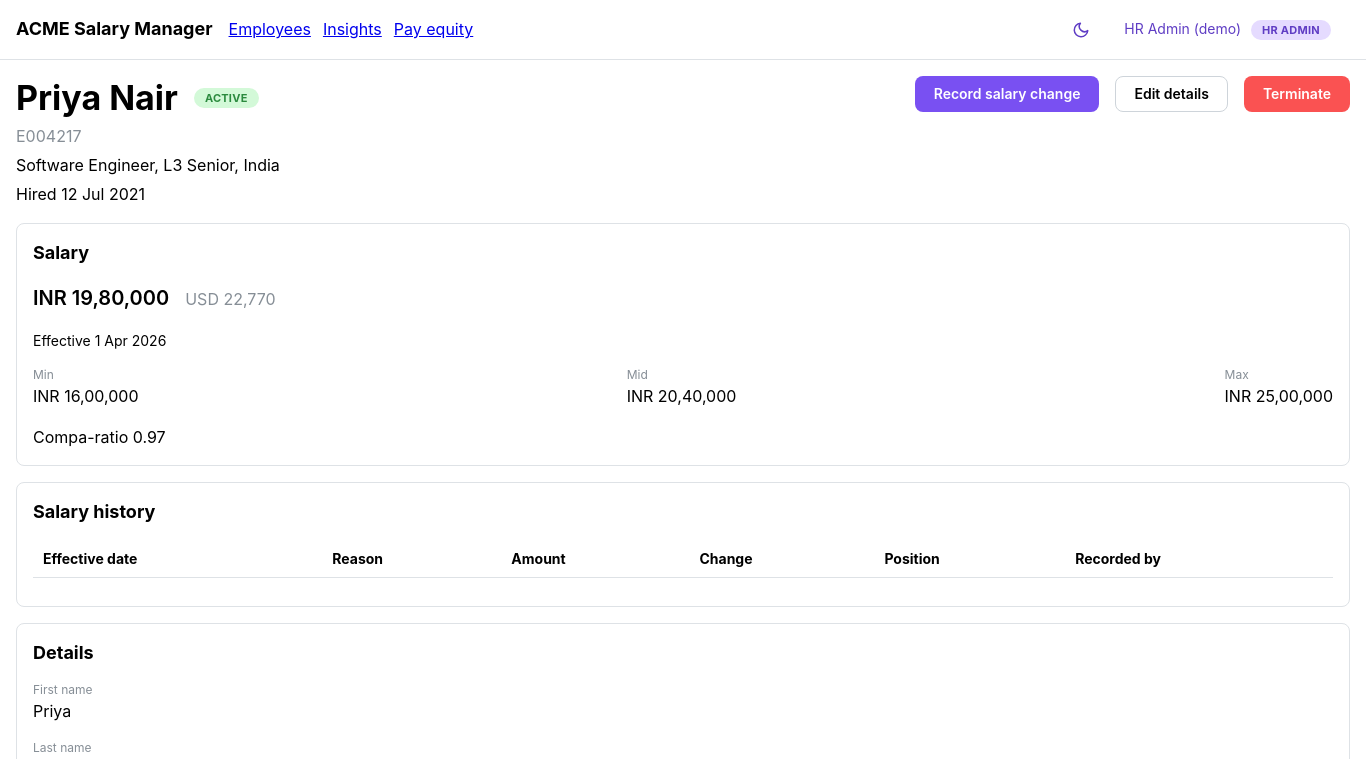
record salary change modal (04 section 8.5 S-6) › locks title and level for merit and offers only higher levels for promotion
Click the button "Record salary change": point(1007, 94) [915,76,1100,112]
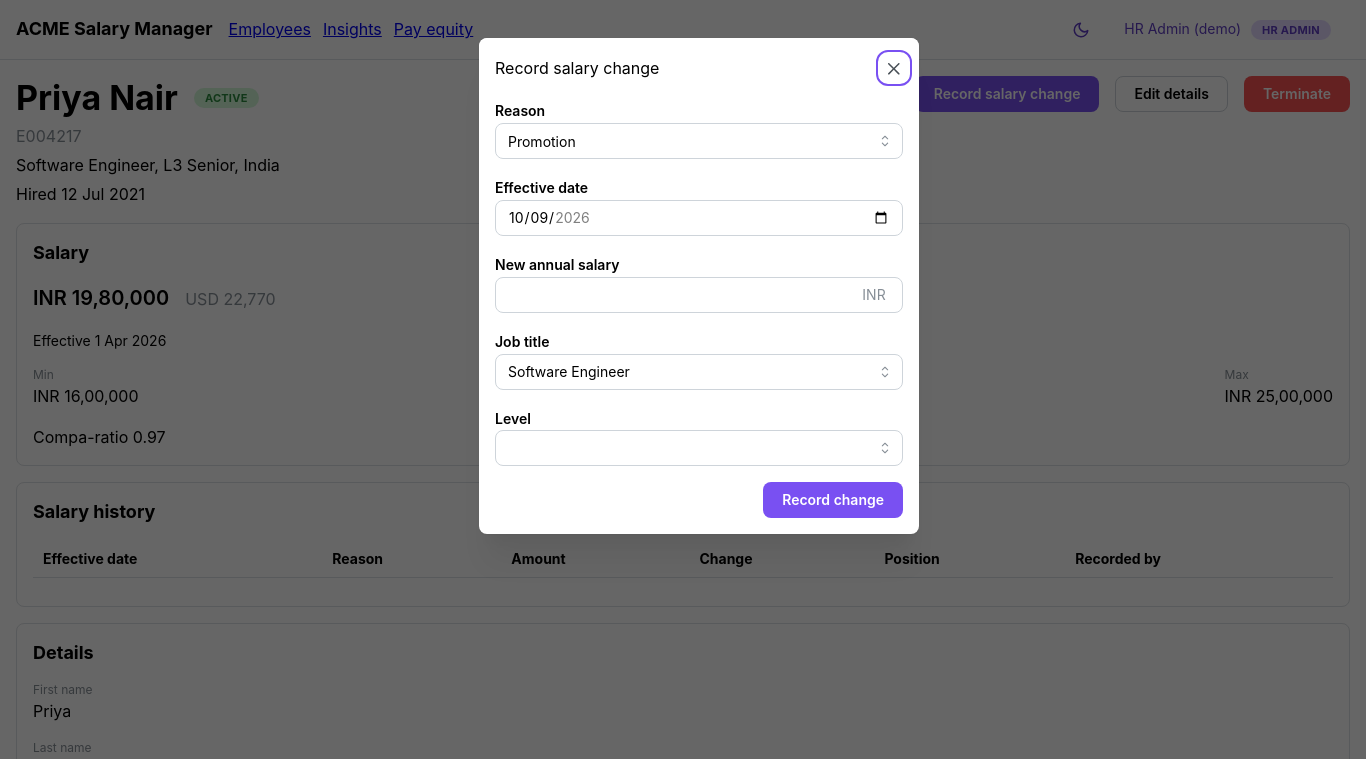
Click the dropdown labelled "Reason": point(699, 141) [495,123,903,159]
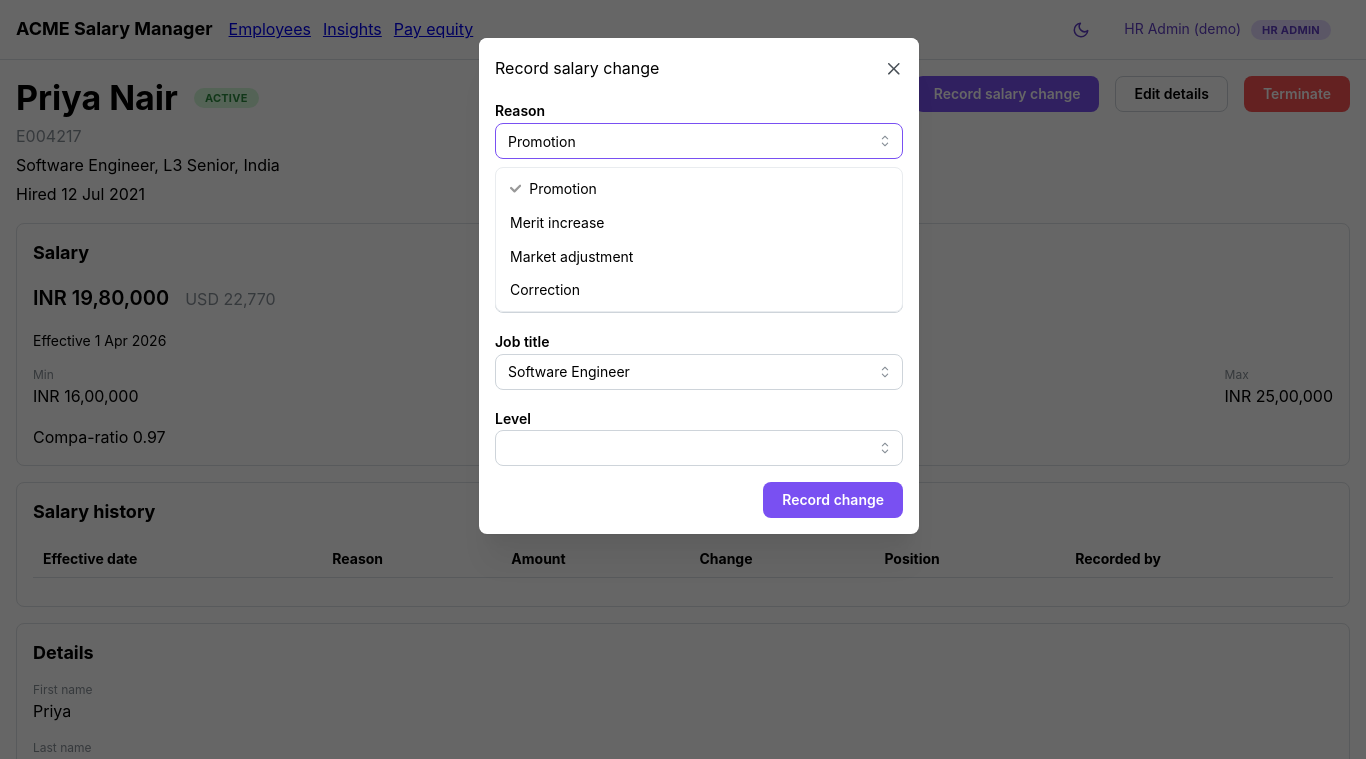
Click the option "Merit increase": point(557, 222) [510,214,604,231]
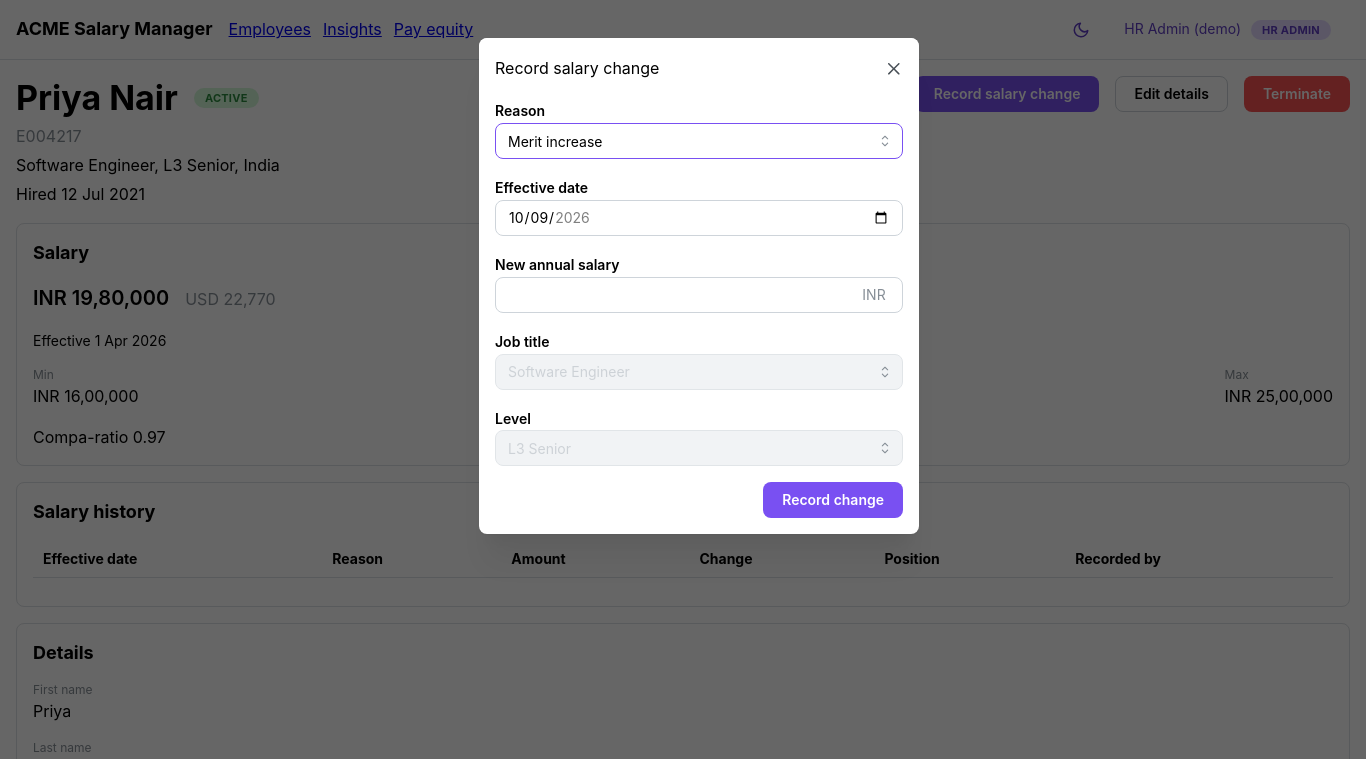
Now the dropdown labelled "Job title" holds "Software Engineer", box [495,354,903,390]
Now the dropdown labelled "Job title" is disabled, box [495,354,903,390]
Now the dropdown labelled "Level" is disabled, box [495,430,903,466]
Click the dropdown labelled "Reason": point(699, 141) [495,123,903,159]
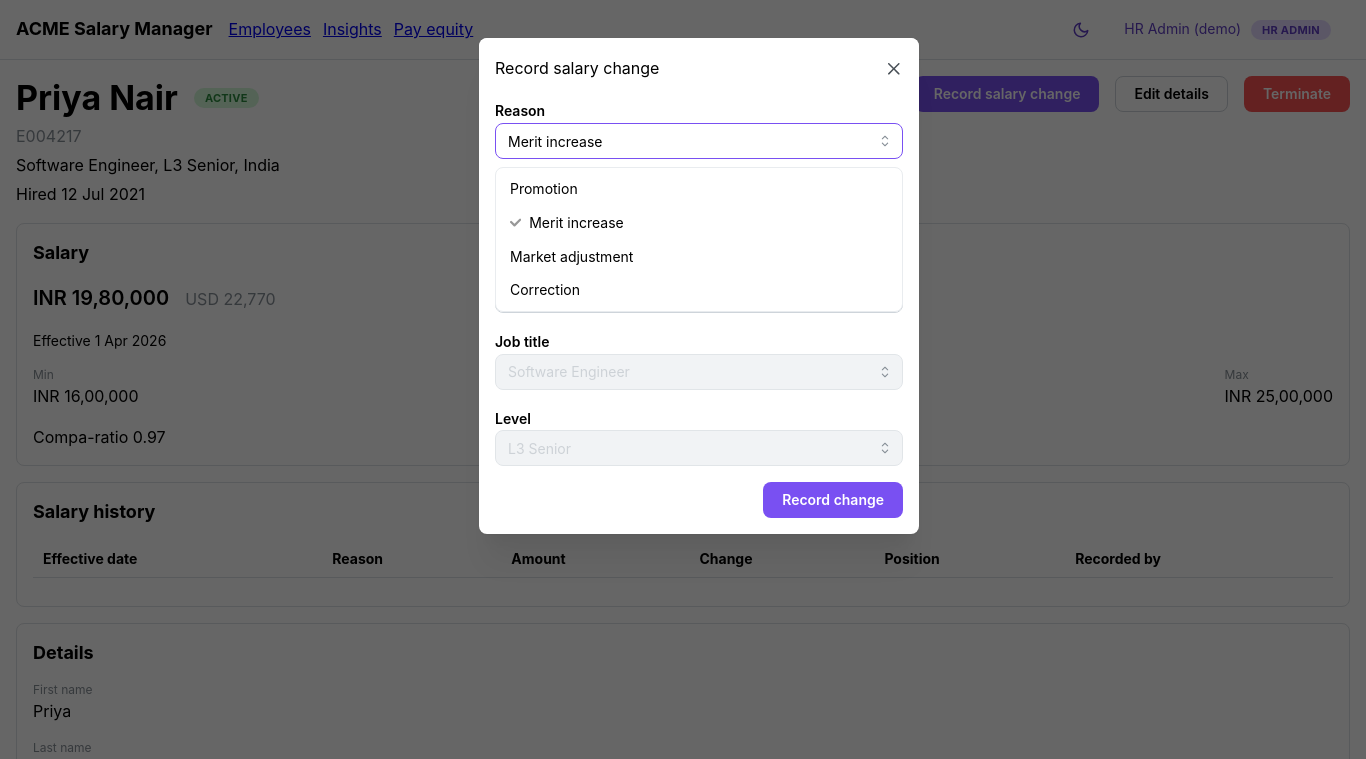
Click the option "Promotion": point(544, 189) [510,180,578,197]
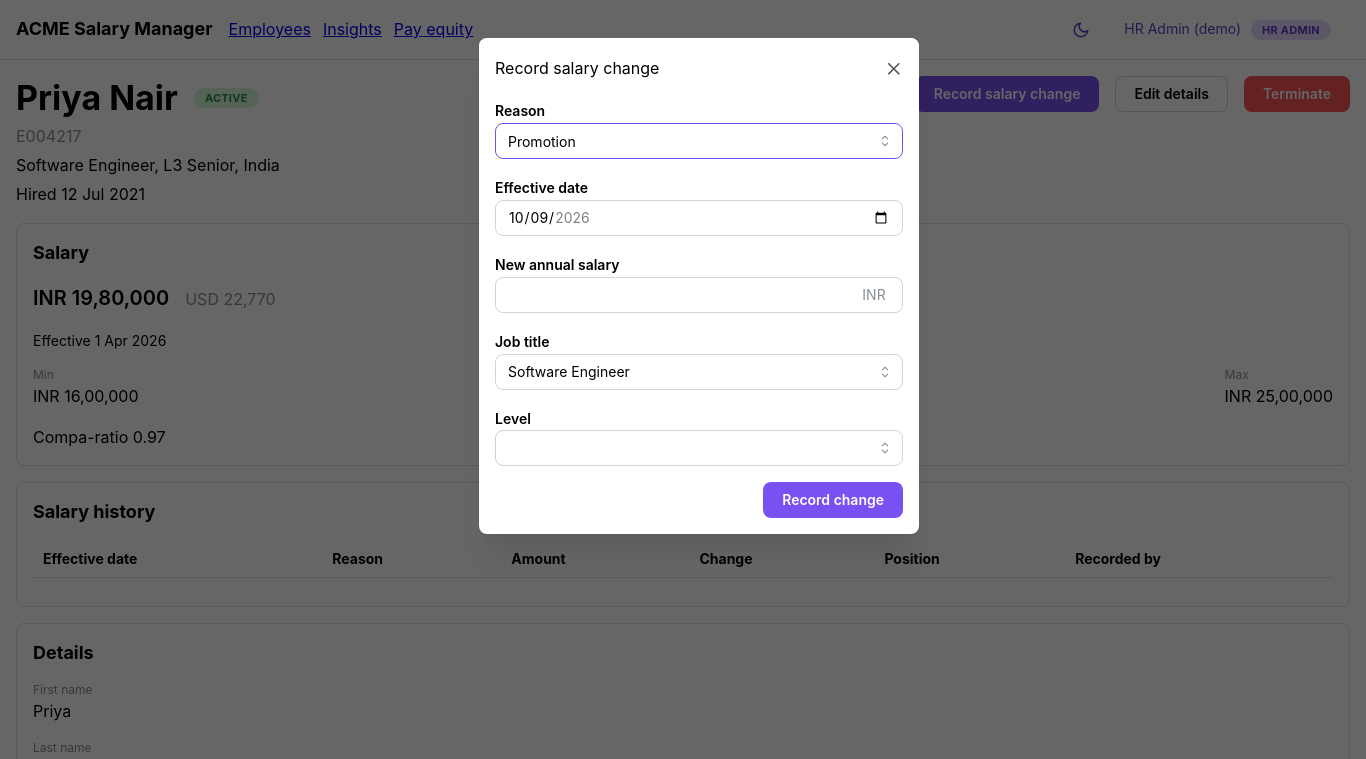
Now the dropdown labelled "Job title" is enabled, box [495,354,903,390]
Now the dropdown labelled "Level" is enabled
Click the dropdown labelled "Level": point(699, 448) [495,430,903,466]
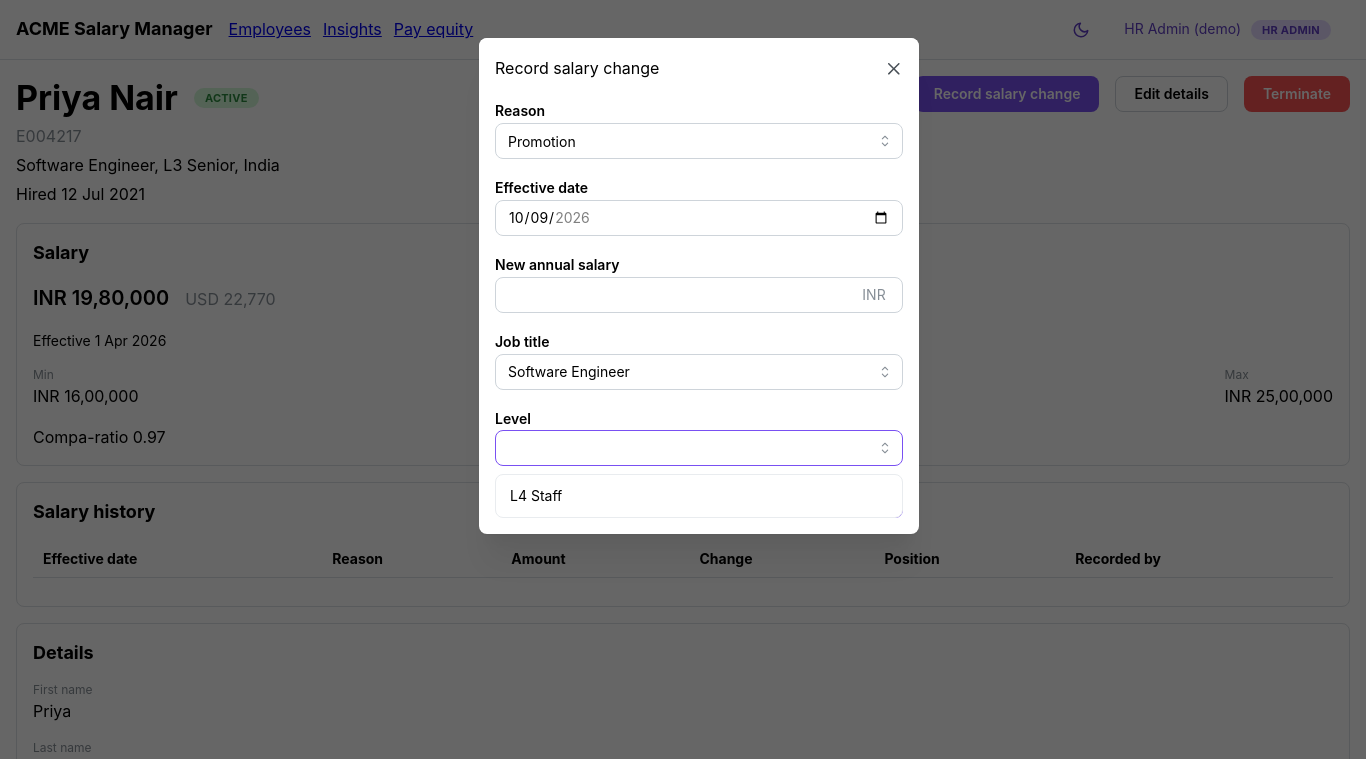
Now the option "L4 Staff" is shown, box [510,487,562,504]
